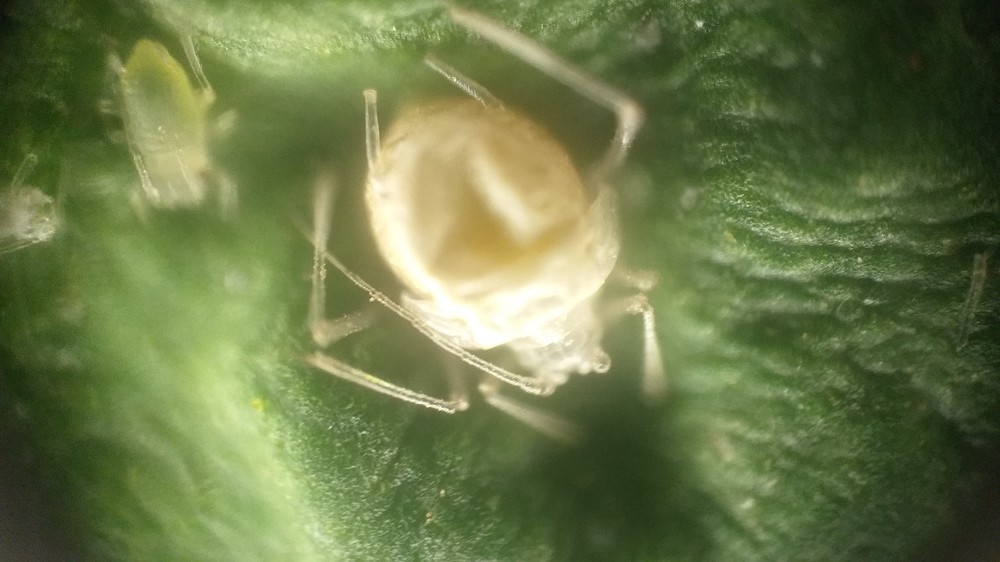Pulgon: (290, 33, 702, 452), (85, 24, 293, 227)
